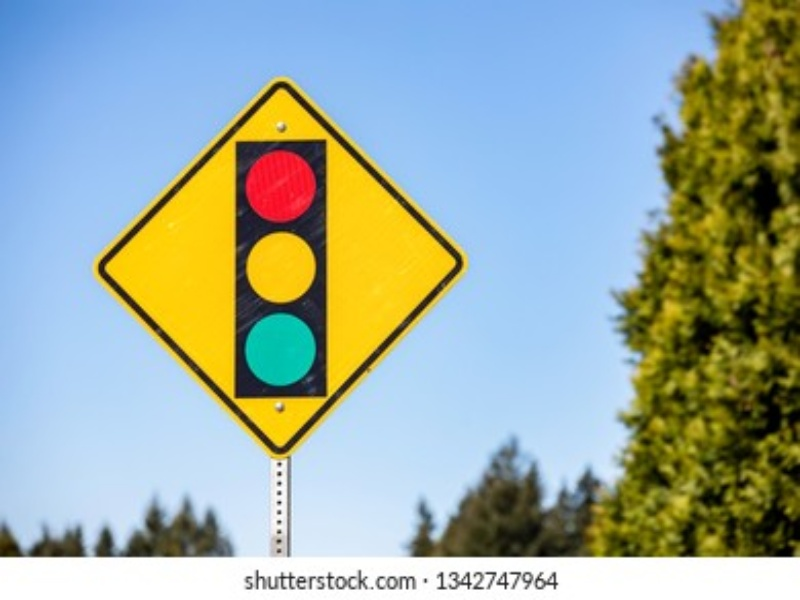traffic signal sign: (90, 73, 470, 463)
